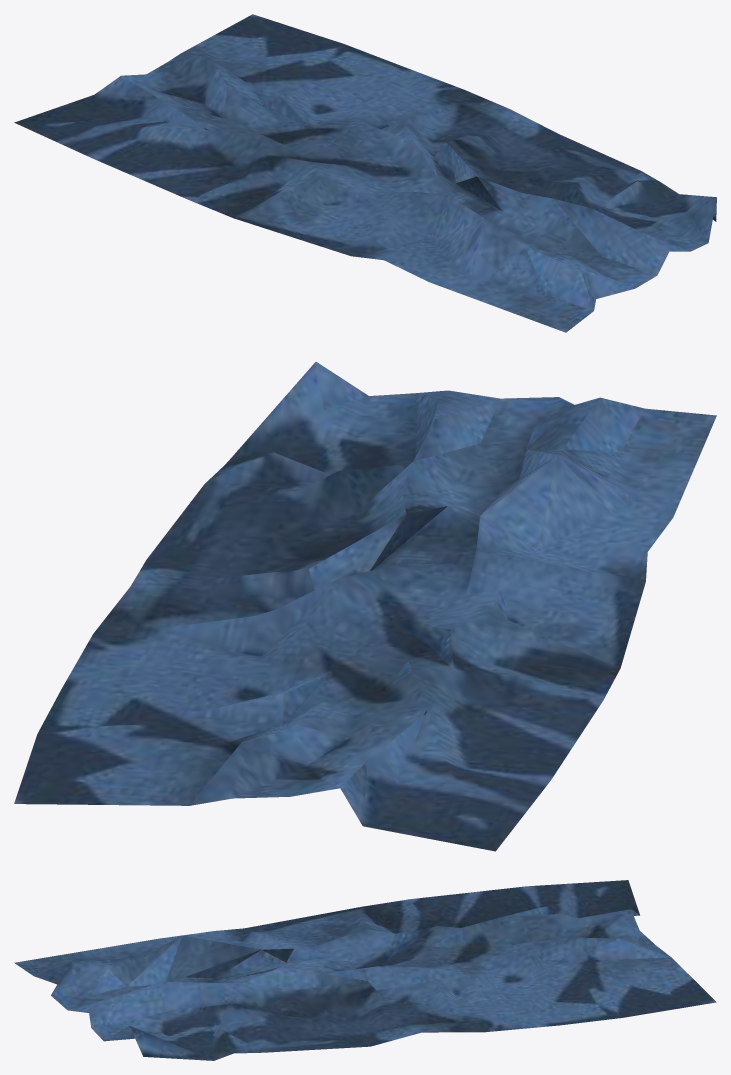
File: rag_towel_blue_2_lod1_web.glb
3 views of the same model, one above another, from view 1: azimuth 30°, elevation 25°; view 2: azimuth 150°, elevation 25°; view 3: azimuth 270°, elevation 25° (orthographic). The views are drawn at different scales.
Parts seen in each view (by area): view 1: rag_towel_blue_2_Cloth; view 2: rag_towel_blue_2_Cloth; view 3: rag_towel_blue_2_Cloth.
Part boxes in pixels (box(x1,y1,x2,y2)): rag_towel_blue_2_Cloth: box(14, 14, 716, 332); rag_towel_blue_2_Cloth: box(14, 362, 716, 851); rag_towel_blue_2_Cloth: box(14, 880, 716, 1060).
Size of the model in its own units: 0.5676 by 0.052 by 0.9349.
1 material, 1 textured.
